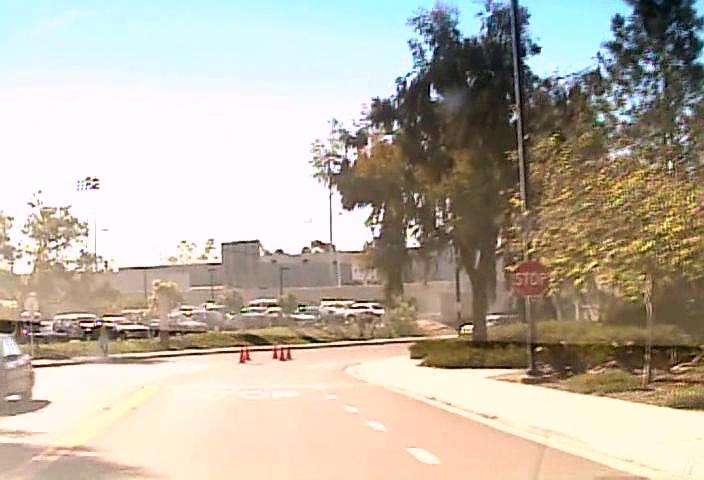stop: (510, 258, 549, 297)
